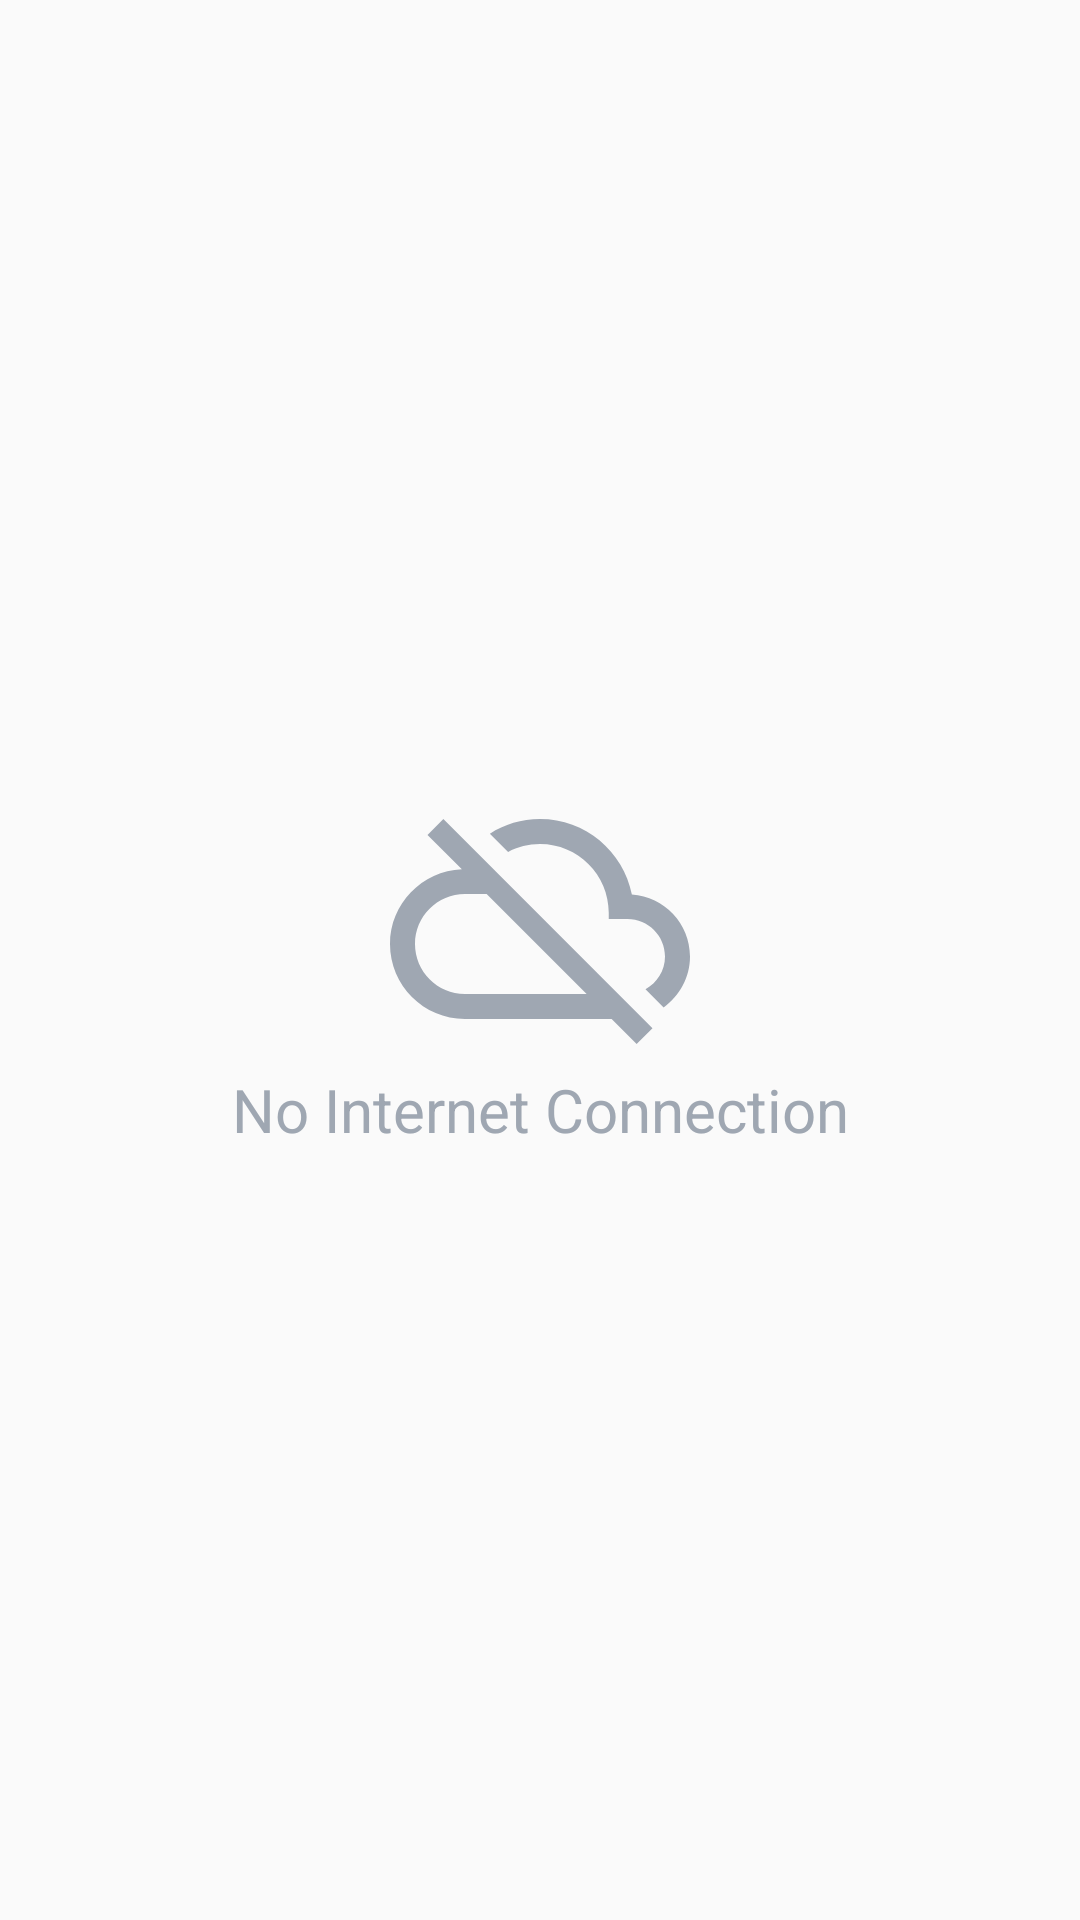

Named icons in this screenshot (1080 x 1920) and their centers, (x,y):
cloud off: (540,931)
